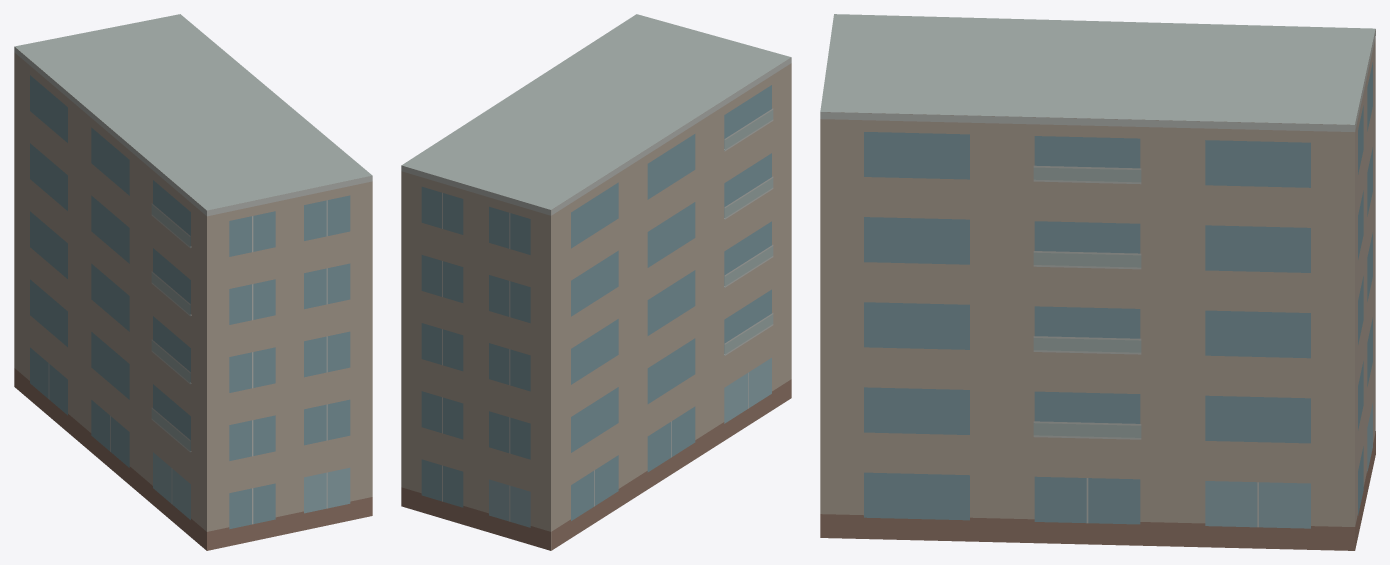
The model's file is survey-upis-32906715.glb.
3 views of the same model, side by side, from view 1: azimuth 30°, elevation 25°; view 2: azimuth 150°, elevation 25°; view 3: azimuth 270°, elevation 25° (orthographic). The views are drawn at different scales.
Visible parts, largest first — view 1: survey-upis-32906715.tmp; view 2: survey-upis-32906715.tmp; view 3: survey-upis-32906715.tmp.
Boxes of the visible parts, box(x1,y1,x2,y2) form: survey-upis-32906715.tmp: box(14, 14, 372, 550); survey-upis-32906715.tmp: box(401, 14, 791, 550); survey-upis-32906715.tmp: box(820, 14, 1375, 550).
Bounding box in the file's own units: 7.99 × 14.3 × 16.91.
